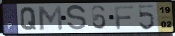5: (138, 3, 156, 31)
6: (91, 5, 108, 32)
F: (113, 5, 135, 31)
M: (36, 6, 65, 32)
Q: (19, 6, 37, 31)
S: (65, 4, 88, 33)
